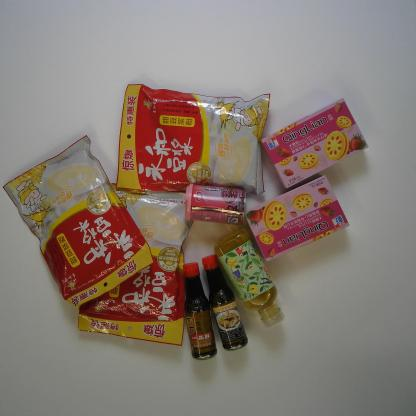Canned Food: (183, 181, 247, 228)
Dessert: (258, 98, 372, 190), (243, 170, 351, 264)
Drink: (214, 228, 288, 329)
Instant Drink: (2, 134, 155, 314), (74, 180, 193, 348), (116, 80, 274, 200)
Seasoner: (200, 252, 249, 353), (180, 260, 220, 363)
